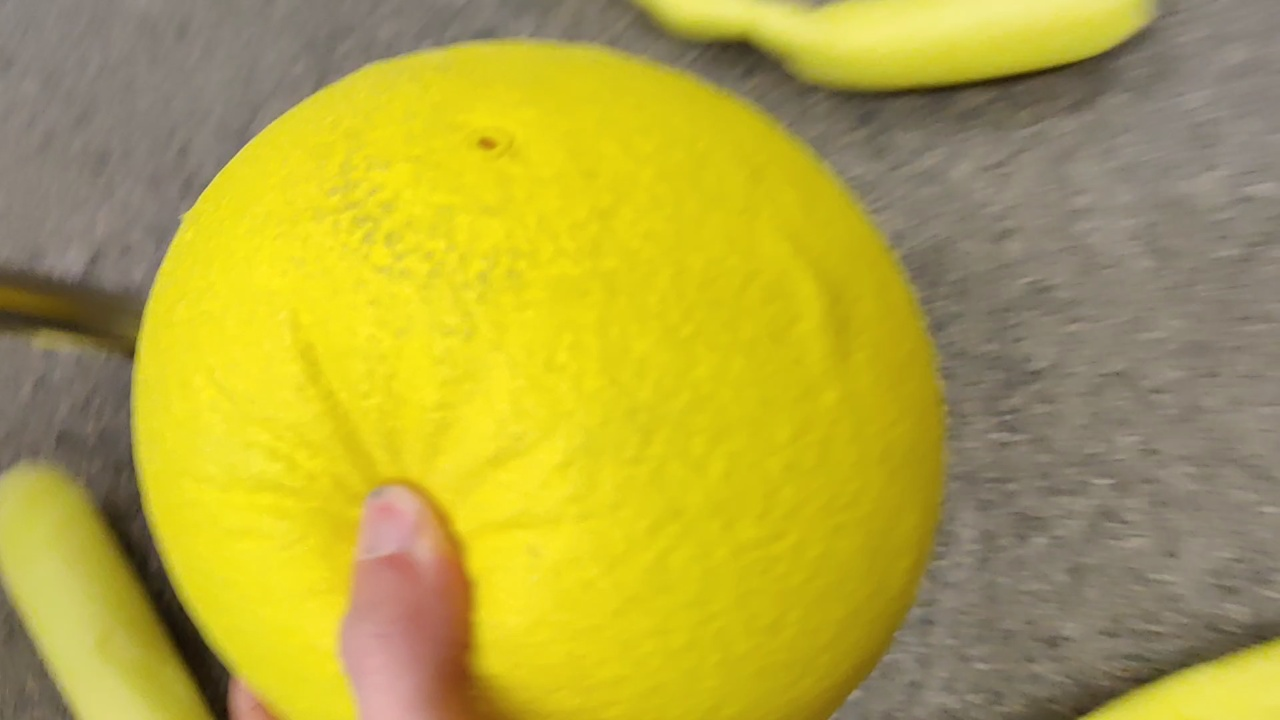Ball: (140, 36, 942, 720)
